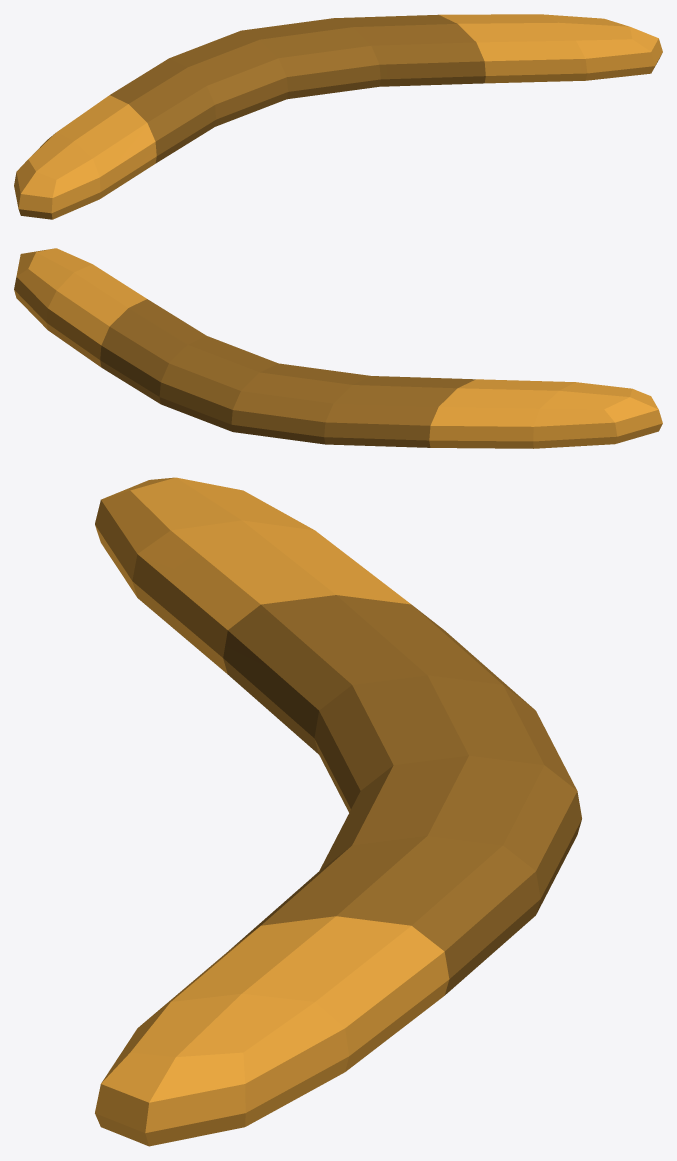
The model's file is Boomerang.fbx.
3 renders of one model, top to bottom at view 1: azimuth 30°, elevation 25°; view 2: azimuth 150°, elevation 25°; view 3: azimuth 270°, elevation 25°, orthographic. The views are drawn at different scales.
Visible parts, largest first — view 1: Cube.001; view 2: Cube.001; view 3: Cube.001.
Part boxes in pixels (x1,y1,x2,y2): Cube.001: [14, 14, 662, 219]; Cube.001: [14, 248, 662, 448]; Cube.001: [95, 477, 581, 1146].
Bounding box in the file's own units: 196 × 12.84 × 64.13.
